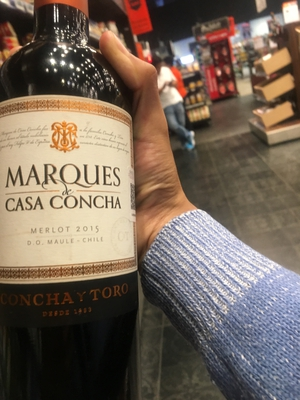marques de casa concha merlot: (1, 20, 145, 395)
